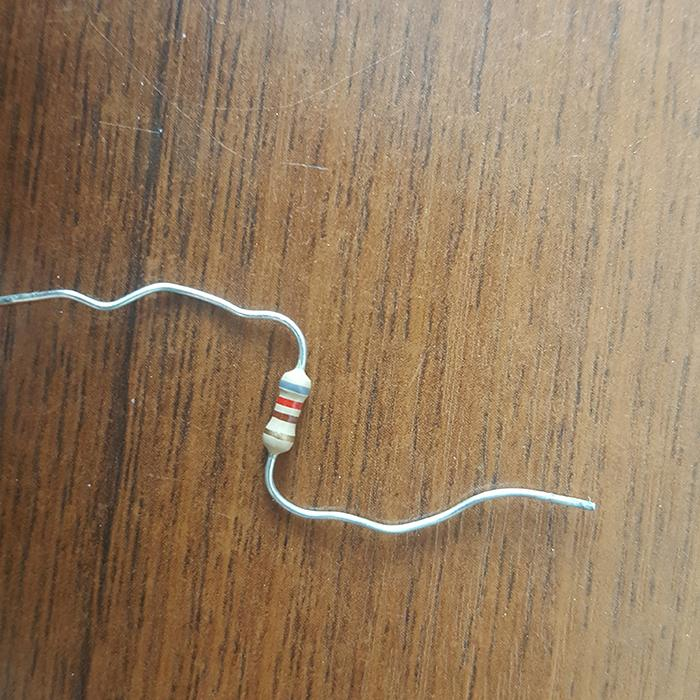resistor: (262, 367, 313, 455)
